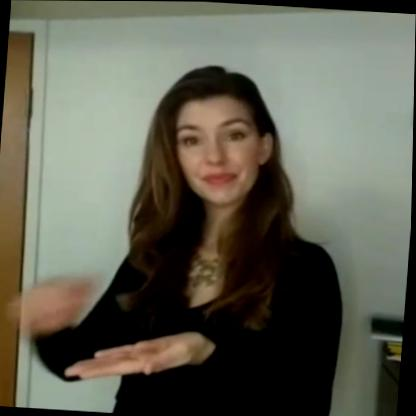ExcuseMe: (0, 250, 220, 395)
